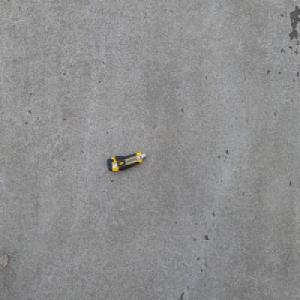Cutter: (106, 151, 146, 172)
